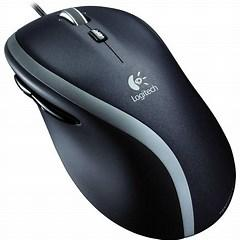computer mouse: (4, 5, 236, 240)
